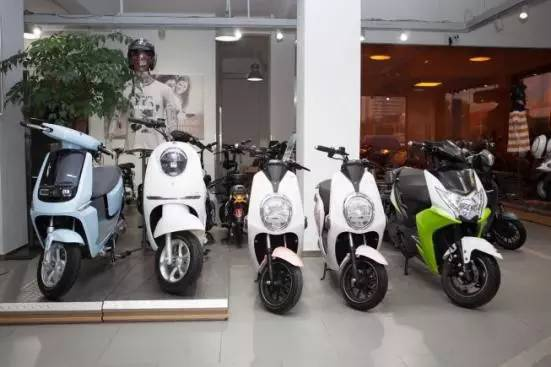non-vehicle: (24, 126, 125, 293), (394, 165, 498, 304), (311, 150, 391, 306), (138, 130, 212, 289), (243, 158, 307, 316)
